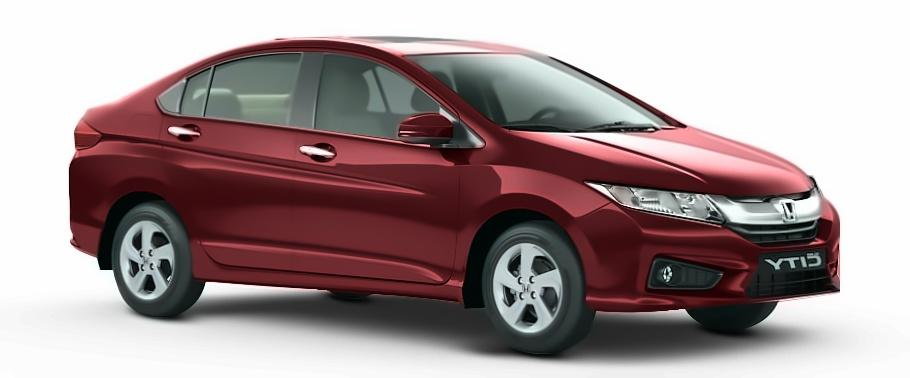Car hood: (489, 128, 818, 197)
Driver-s door - -F-R-: (274, 35, 469, 302)
Fender - -F-R-: (440, 102, 611, 305)
Fender - -R-R-: (71, 64, 201, 216)
Front bumper: (559, 198, 844, 313)
Headlight - -R-: (582, 178, 725, 228)
Passenger-s door - -R-R-: (159, 33, 317, 303)
Rear bumper: (65, 182, 115, 259)
Rear light - -R-: (72, 118, 104, 158)
Side bumper - -R-: (188, 242, 472, 311)
Side mirror - -L-: (398, 109, 485, 152)
